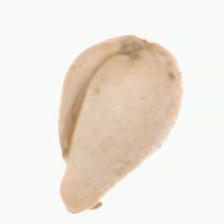L1: (57, 185, 104, 214), (116, 33, 161, 61)
L2: (56, 33, 183, 213)
